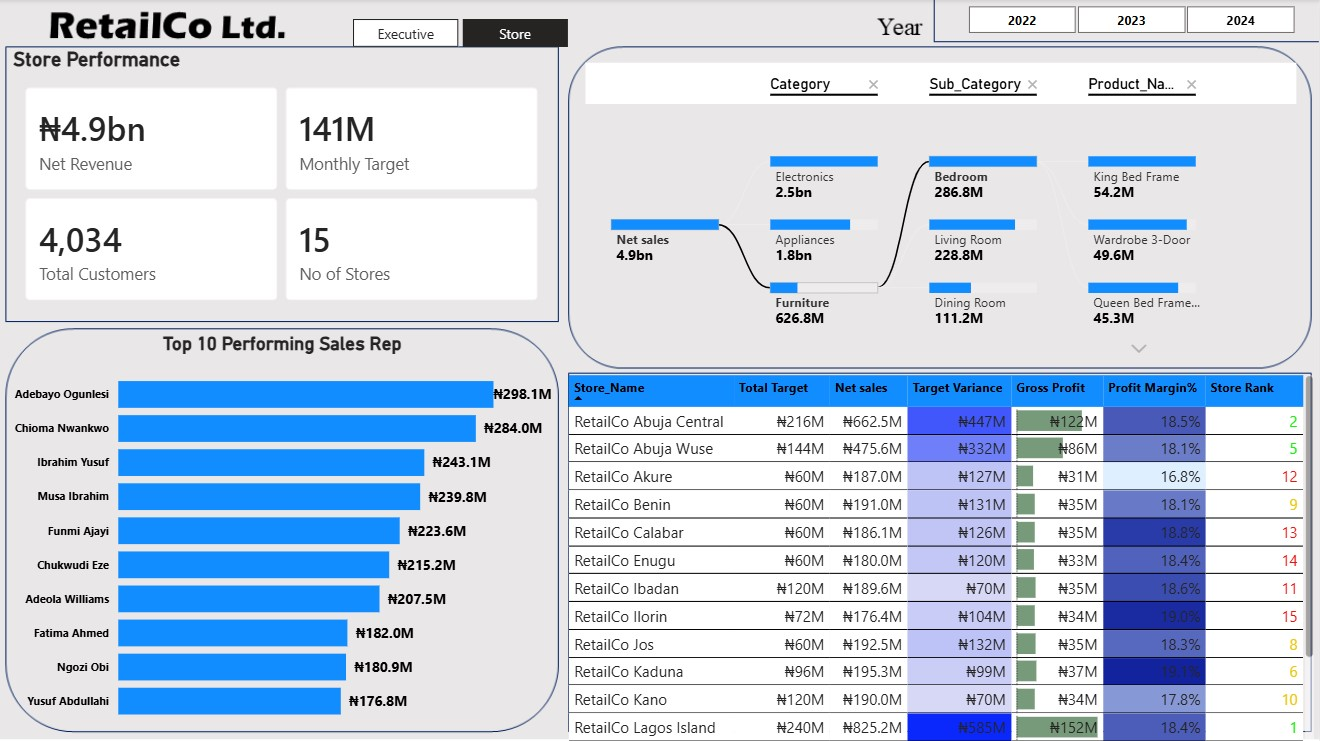

The dashboard page shown, as its layout file describes it:
{"tool":"powerbi","page":{"name":"Store","canvas":[1280,720],"ordinal":1},"visuals":[{"type":"decompositionTreeVisual","fields":{"Analyze":["Measures Table.Net sales"],"ExplainBy":["Products.Category","Products.Sub_Category","Products.Product_Name"]},"box":[564.1,56.9,698.5,294.2],"z":0},{"type":"barChart","title":"Top 10 Performing Sales Rep","fields":{"Category":["SalesReps.Rep_Name"],"Y":["Measures Table.Net sales"]},"box":[9.7,323.2,531.4,388.6],"z":1000},{"type":"cardVisual","title":"Store Performance","fields":{"Data":["Measures Table.Net sales","Sum(Stores.Monthly_Target)","Measures Table.Total Customers","Count(Stores.Store_ID)"]},"box":[9.7,47.2,531.4,262.7],"z":2000},{"type":"tableEx","fields":{"Values":["Stores.Store_Name","Measures Table.Total Target","Measures Table.Net sales","Measures Table.Target Variance","Measures Table.Profit","Measures Table.Profit Margin%","Measures Table.Store Rank"]},"box":[552,359.5,727.5,360.7],"z":3000},{"type":"slicer","title":"Year","fields":{"Values":["Calendar.FiscalYear"]},"box":[913.9,0,365.6,37.5],"z":4000},{"type":"pageNavigator","box":[343.8,19.4,208.2,27.8],"z":4001}]}

Visuals, with their boxes in screenshot pixels (x1, y1, x2, y2), scaled from the page's 1280x720 canvas onto the 1320x741 screenshot:
decompositionTreeVisual - Measures Table.Net sales x Products.Category: 582/59/1302/361
"Top 10 Performing Sales Rep" barChart: 10/333/558/733
"Store Performance" cardVisual: 10/49/558/319
tableEx - Stores.Store_Name x Measures Table.Total Target: 569/370/1319/740
"Year" slicer: 942/0/1319/39
pageNavigator: 355/20/569/49
